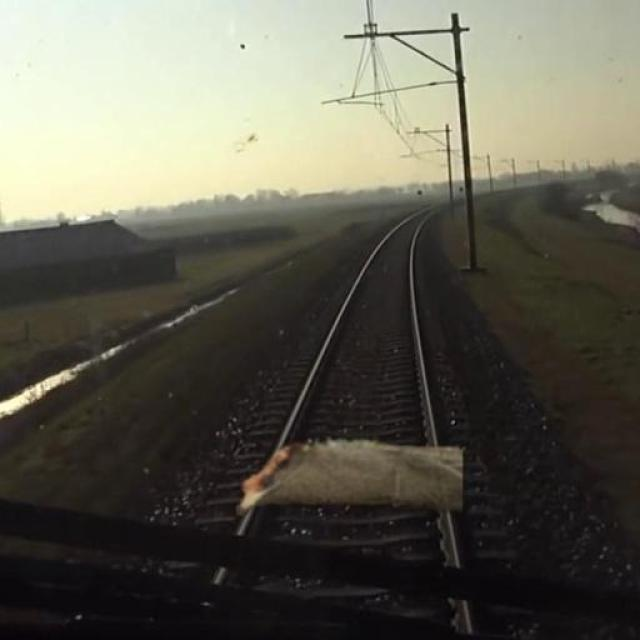Branches: (232, 433, 474, 523)
